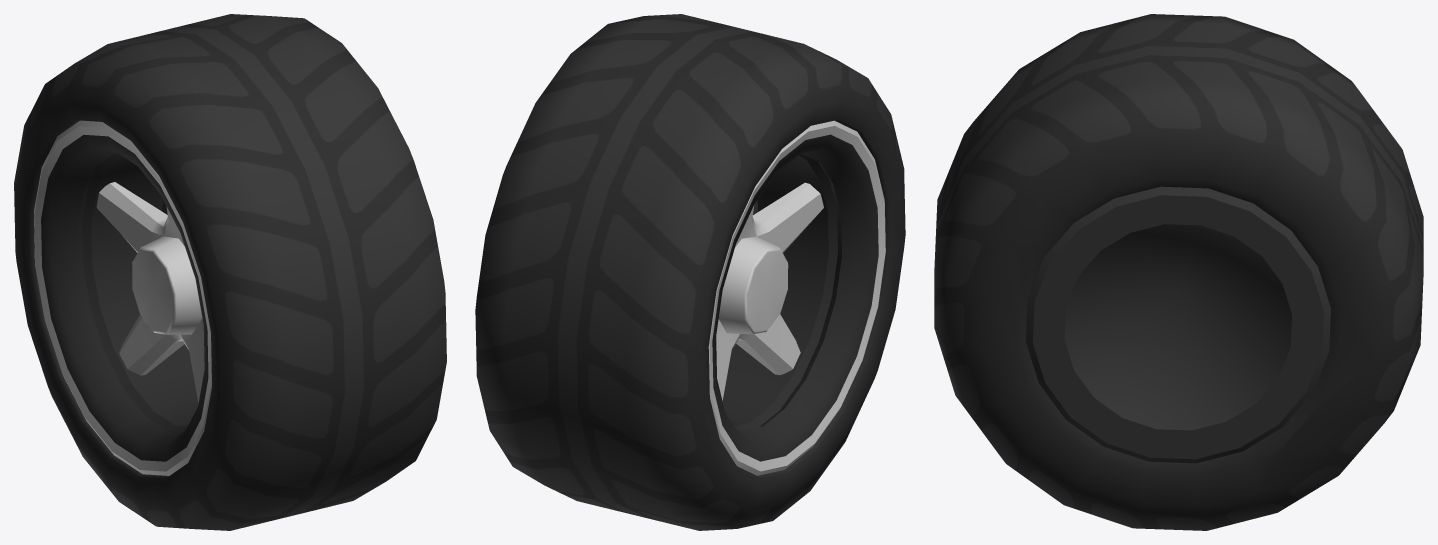
File: Car_04_Wheel_FR.fbx
3 views of the same model, side by side, from view 1: azimuth 30°, elevation 25°; view 2: azimuth 150°, elevation 25°; view 3: azimuth 270°, elevation 25° (orthographic).
Visible parts, largest first — view 1: Car_04_Wheel_FR; view 2: Car_04_Wheel_FR; view 3: Car_04_Wheel_FR.
Boxes of the visible parts, x1,y1,x2,y2 form: Car_04_Wheel_FR: [14, 14, 446, 530]; Car_04_Wheel_FR: [475, 14, 905, 530]; Car_04_Wheel_FR: [934, 14, 1423, 530].
Size of the model in its own units: 50 by 95 by 95.
